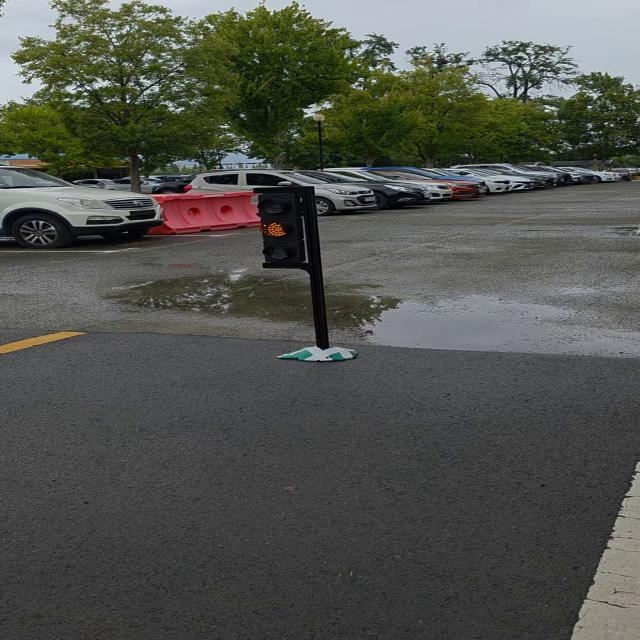yellow: (258, 190, 317, 272)
